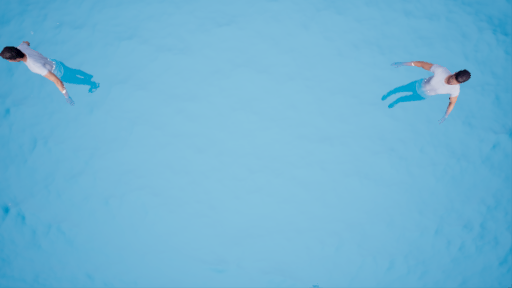person: (1, 41, 103, 110), (373, 57, 469, 122)
